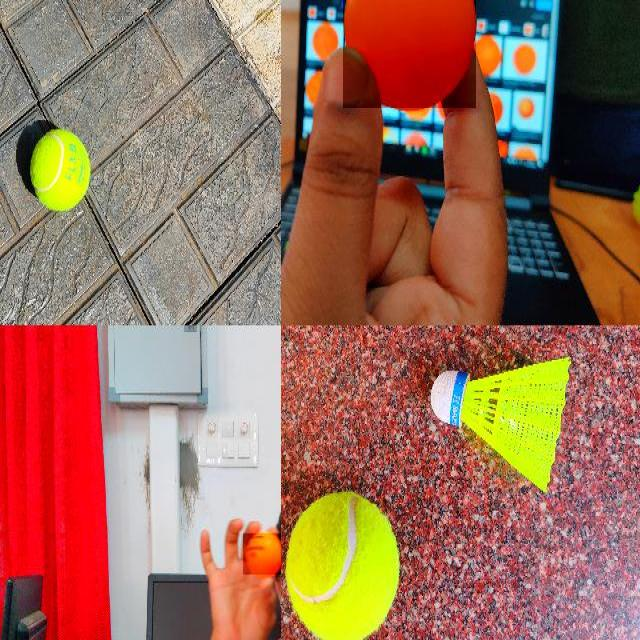ping-pong-ball: (343, 0, 478, 111), (243, 533, 280, 576)
